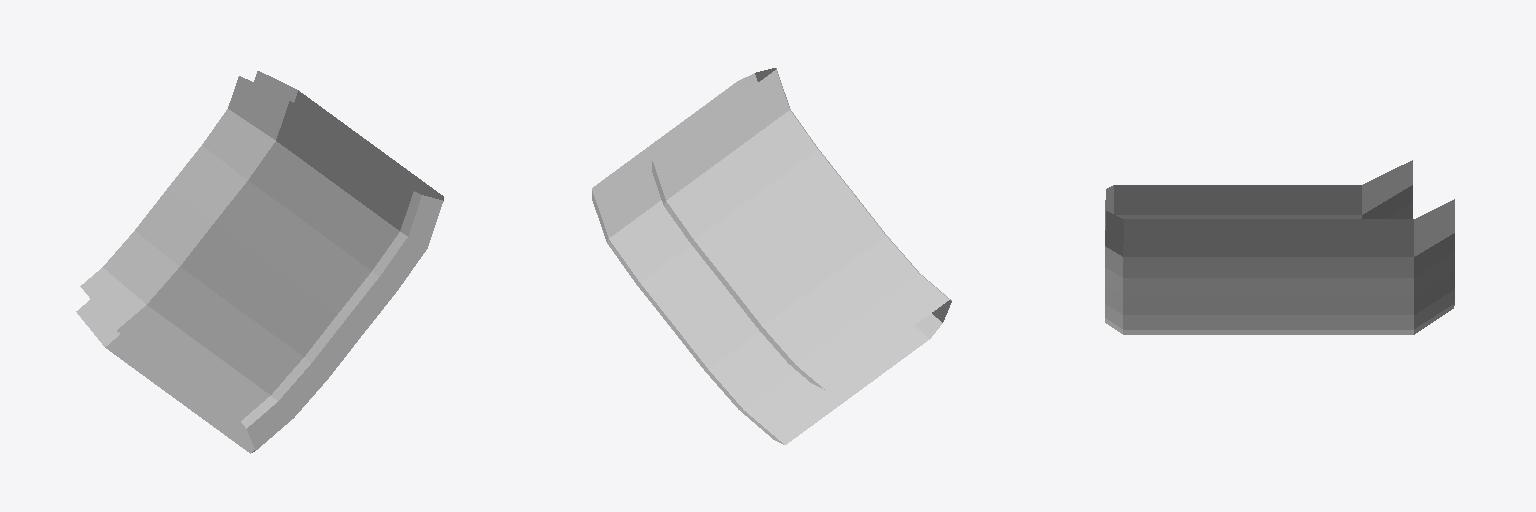
File: basket008.obj
3 renders of one model, left to right at view 1: azimuth 30°, elevation 25°; view 2: azimuth 150°, elevation 25°; view 3: azimuth 270°, elevation 25°, orthographic.
Parts seen in each view (by area): view 1: basket.008; view 2: basket.008; view 3: basket.008.
Boxes of the visible parts, <box> form: basket.008: <box>76,71,443,453</box>; basket.008: <box>592,68,951,444</box>; basket.008: <box>1105,160,1454,334</box>.
Bounding box in the file's own units: 0.1162 × 0.1218 × 0.1606.